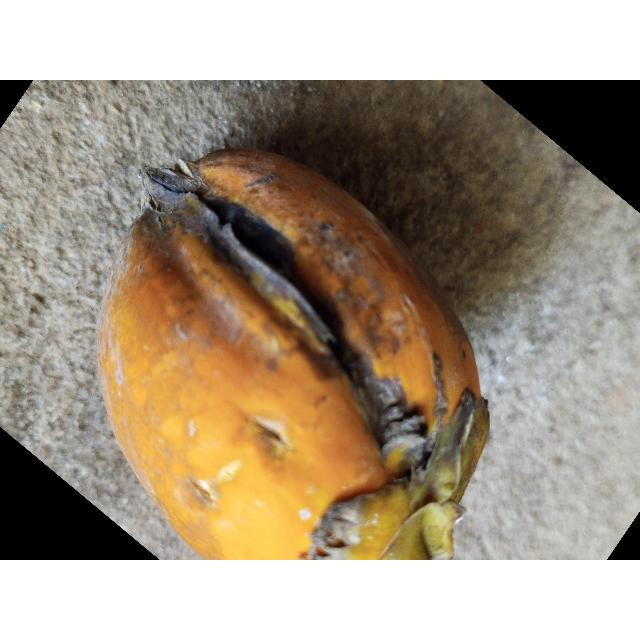damaged: (94, 149, 492, 560)
